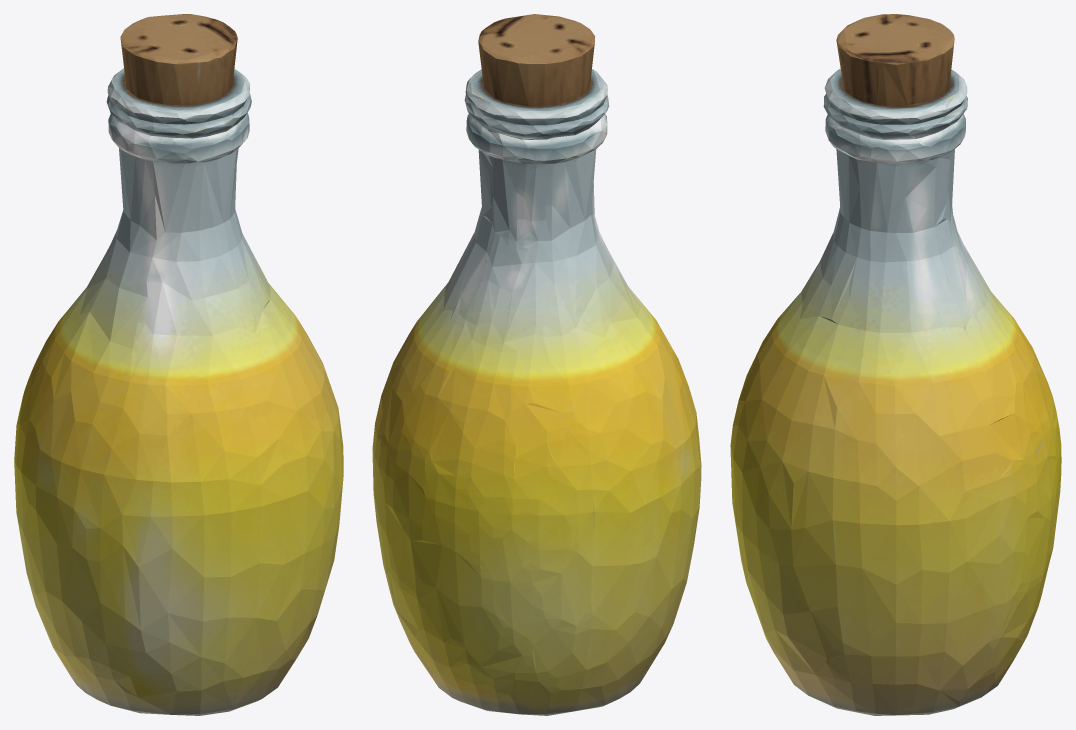
The model's file is syrup.glb.
3 views of the same model, side by side, from view 1: azimuth 30°, elevation 25°; view 2: azimuth 150°, elevation 25°; view 3: azimuth 270°, elevation 25° (orthographic).
Visible parts, largest first — view 1: world; view 2: world; view 3: world.
Boxes of the visible parts, <box> form: world: <box>14,14,343,715</box>; world: <box>372,14,701,715</box>; world: <box>730,14,1061,715</box>.
Bounding box in the file's own units: 0.4711 × 0.9976 × 0.4694.
1 material, 1 textured.
